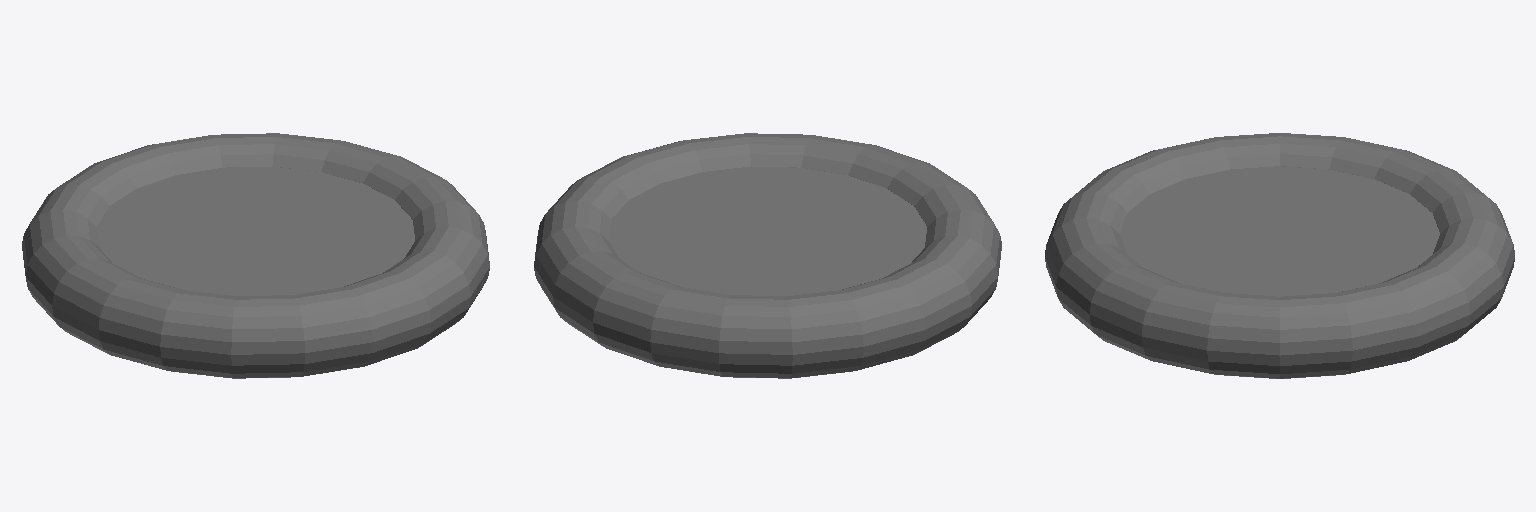
File: coin.obj
3 renders of one model, left to right at view 1: azimuth 30°, elevation 25°; view 2: azimuth 150°, elevation 25°; view 3: azimuth 270°, elevation 25°, orthographic.
Visible parts, largest first — view 1: pTorus1, pCylinder1; view 2: pTorus1, pCylinder1; view 3: pTorus1, pCylinder1.
Boxes of the visible parts, x1,y1,x2,y2 form: pTorus1: [22, 133, 489, 378]; pCylinder1: [97, 167, 414, 295]; pTorus1: [534, 133, 1001, 378]; pCylinder1: [609, 167, 926, 295]; pTorus1: [1045, 133, 1514, 378]; pCylinder1: [1120, 166, 1439, 296].
Size of the model in its own units: 13.59 by 2.4 by 13.59.